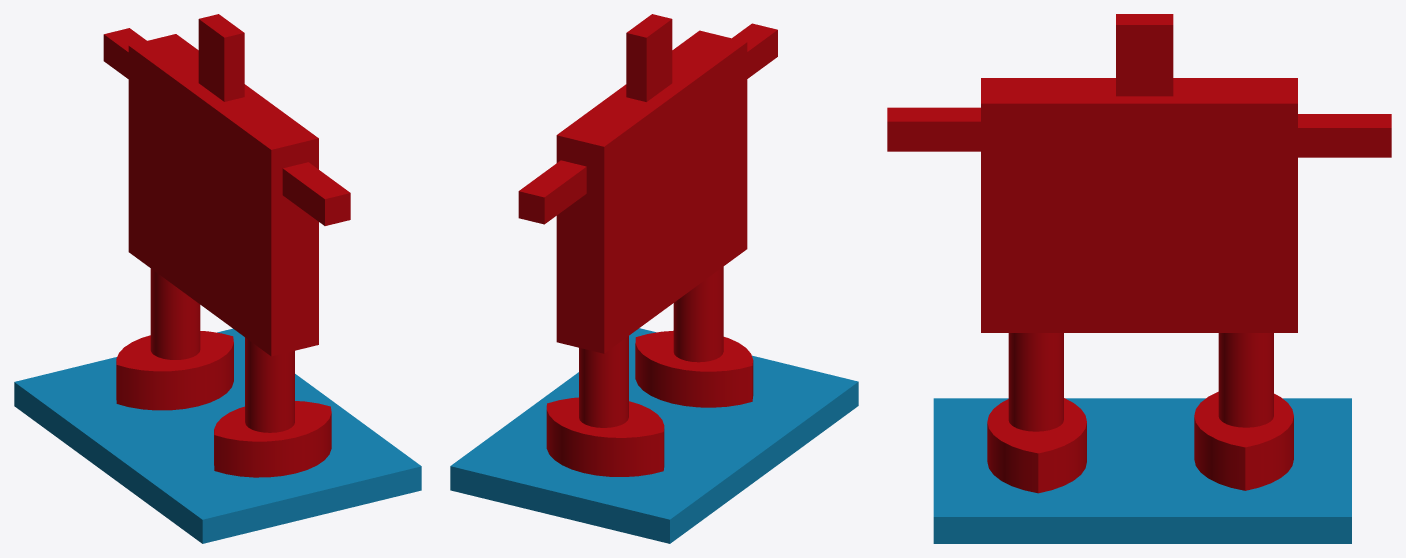
File: JengRobot.dae
3 views of the same model, side by side, from view 1: azimuth 30°, elevation 25°; view 2: azimuth 150°, elevation 25°; view 3: azimuth 270°, elevation 25° (orthographic). The views are drawn at different scales.
Visible parts, largest first — view 1: SketchUp (×9); view 2: SketchUp (×9); view 3: SketchUp (×9).
Part boxes in pixels (x1,y1,x2,y2): SketchUp (×9): (14, 14, 421, 543); SketchUp (×9): (450, 14, 858, 543); SketchUp (×9): (887, 14, 1391, 543).
Bounding box in the file's own units: 72.25 × 130 × 133.
